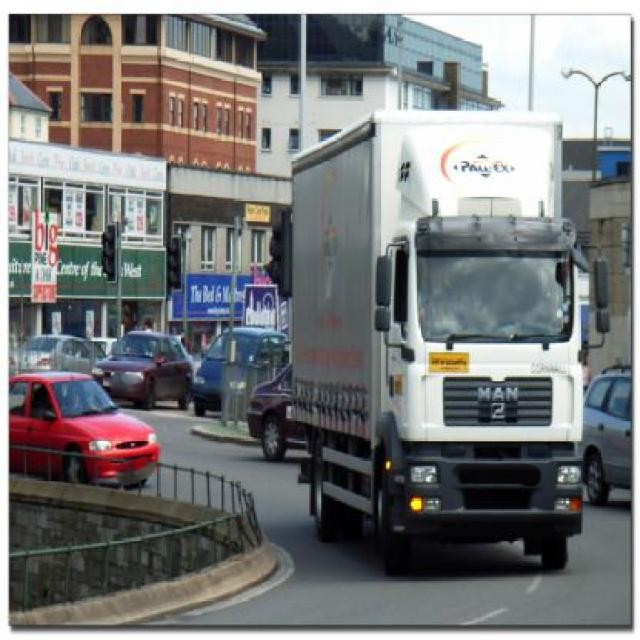car: (8, 367, 160, 490), (190, 326, 288, 418), (92, 330, 196, 408), (252, 362, 306, 461), (14, 334, 110, 376)
truck: (287, 111, 594, 570)
